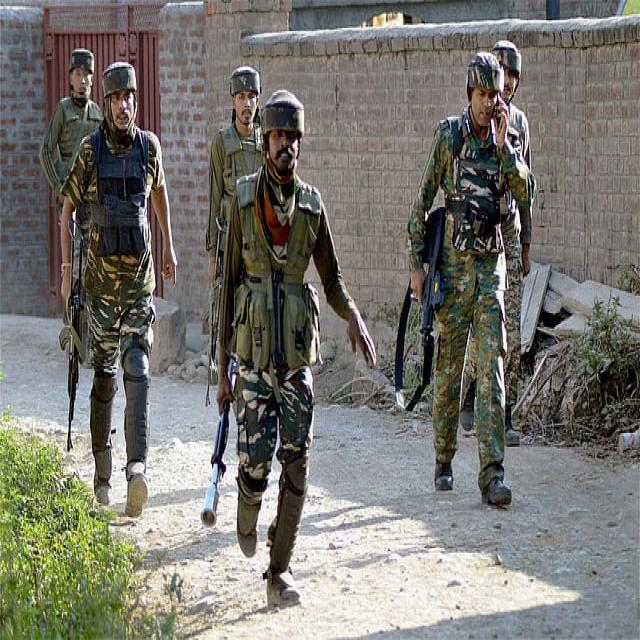Militant: (217, 77, 374, 640), (394, 45, 546, 547), (58, 32, 186, 540), (474, 22, 568, 479), (198, 57, 282, 475), (42, 41, 114, 379)
